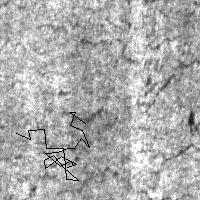crazing: (41, 24, 176, 121), (13, 142, 200, 199), (16, 112, 89, 180)
